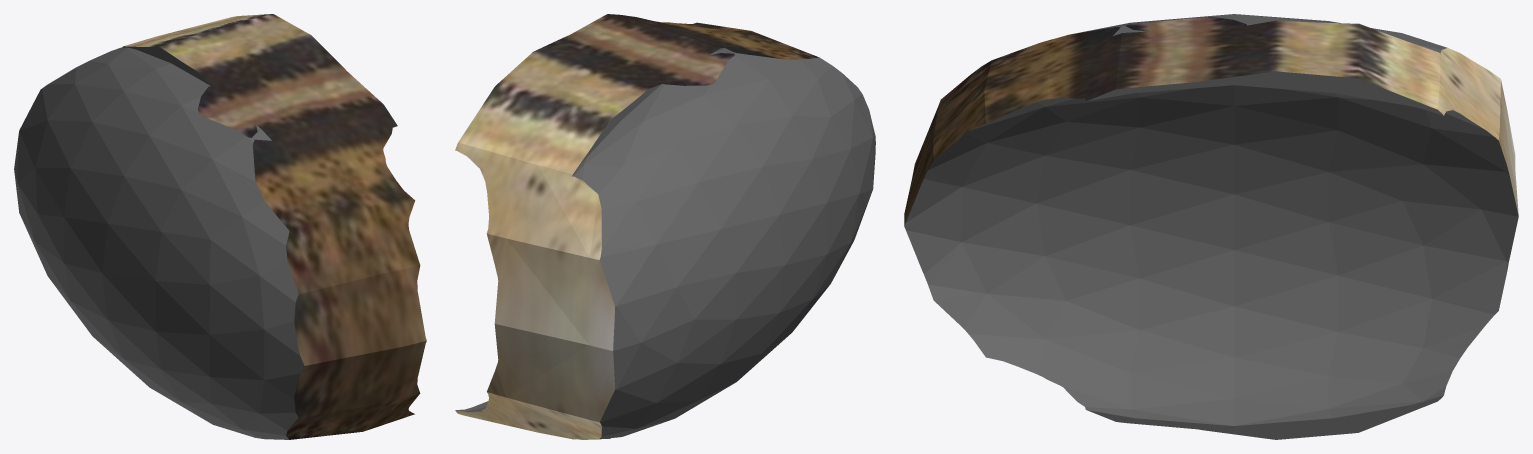
3 renders of one model, left to right at view 1: azimuth 30°, elevation 25°; view 2: azimuth 150°, elevation 25°; view 3: azimuth 270°, elevation 25°, orthographic. The views are drawn at different scales.
Visible parts, largest first — view 1: link_4_visual; view 2: link_4_visual; view 3: link_4_visual.
Boxes of the visible parts, box(x1,y1,x2,y2) form: link_4_visual: box(14, 14, 426, 439); link_4_visual: box(455, 14, 875, 439); link_4_visual: box(904, 14, 1518, 439).
Bounding box in the file's own units: 0.00155 × 0.00219 × 0.0033.
1 material, 1 textured.
